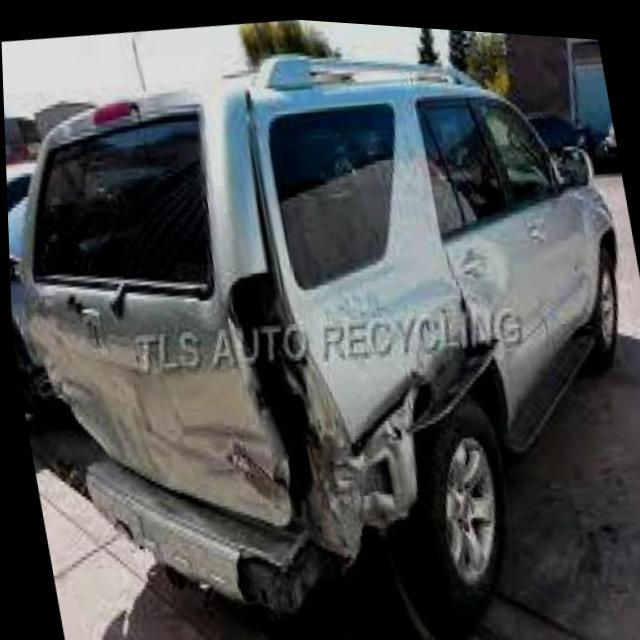Car-Damage: (23, 224, 534, 640)
